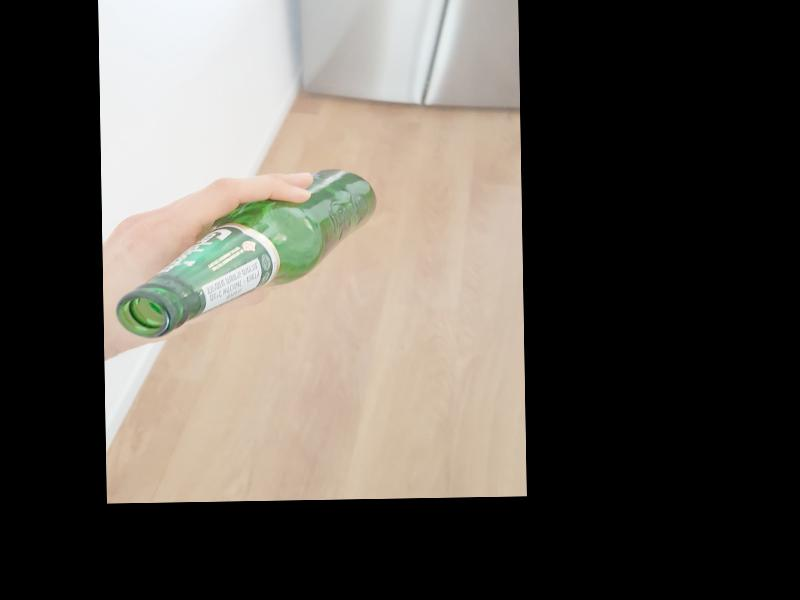Beer: (112, 169, 378, 339)
